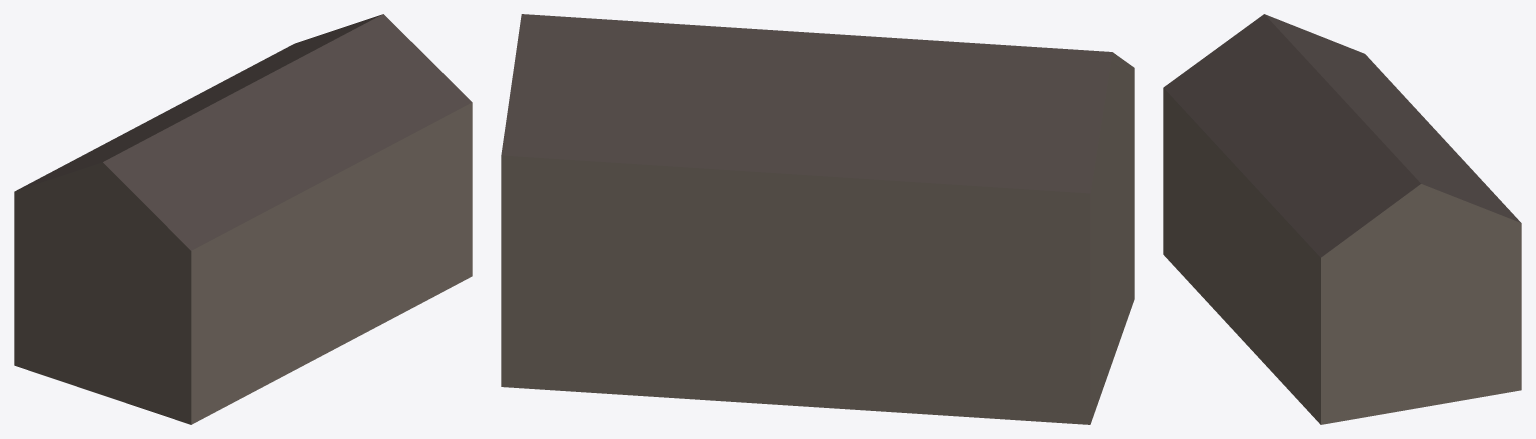
3 views of the same model, side by side, from view 1: azimuth 30°, elevation 25°; view 2: azimuth 150°, elevation 25°; view 3: azimuth 270°, elevation 25° (orthographic). The views are drawn at different scales.
Visible parts, largest first — view 1: HP-w1198664278; view 2: HP-w1198664278; view 3: HP-w1198664278.
Boxes of the visible parts, x1,y1,x2,y2 form: HP-w1198664278: (14,14,472,424); HP-w1198664278: (501,14,1134,424); HP-w1198664278: (1163,14,1521,424).
Bounding box in the file's own units: 15.7 × 8.04 × 11.65.
